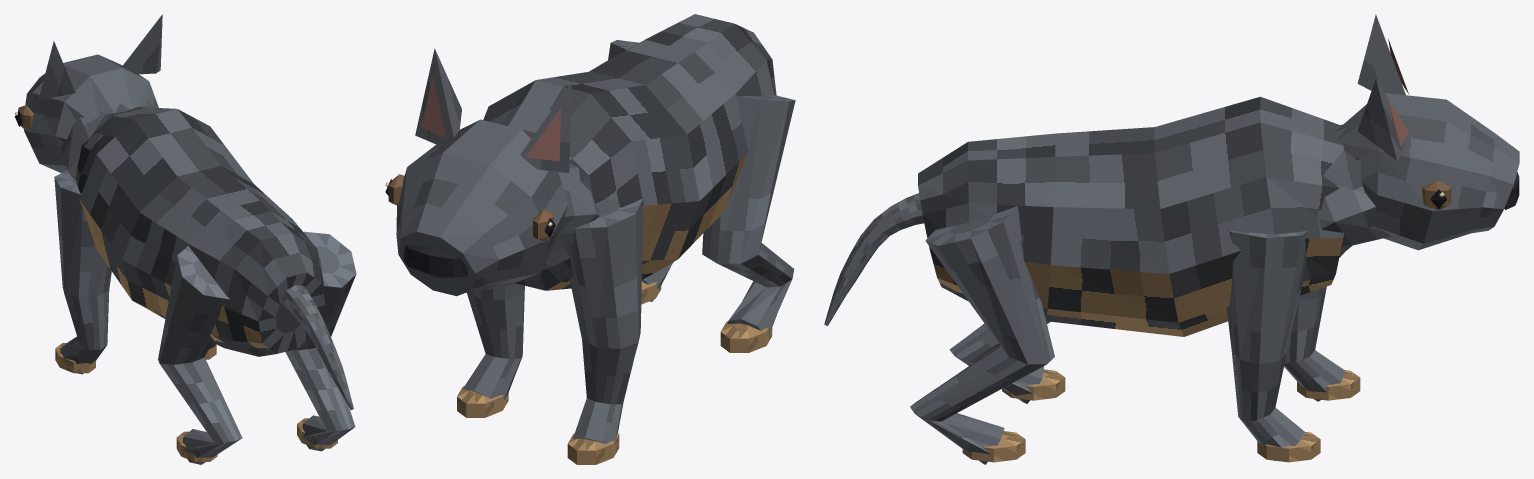
File: mon_dog_auscattle_pup.glb
The picture shows the model from 3 angles, left to right: view 1: azimuth 30°, elevation 25°; view 2: azimuth 150°, elevation 25°; view 3: azimuth 270°, elevation 25°; orthographic projection. The views are drawn at different scales.
Visible parts, largest first — view 1: closed_body; view 2: closed_body; view 3: closed_body.
Boxes of the visible parts, x1,y1,x2,y2 form: closed_body: [14, 14, 356, 464]; closed_body: [385, 14, 795, 464]; closed_body: [824, 14, 1519, 464].
Size of the model in its own units: 0.1047 by 0.2087 by 0.3398.
1 material, 1 textured.
